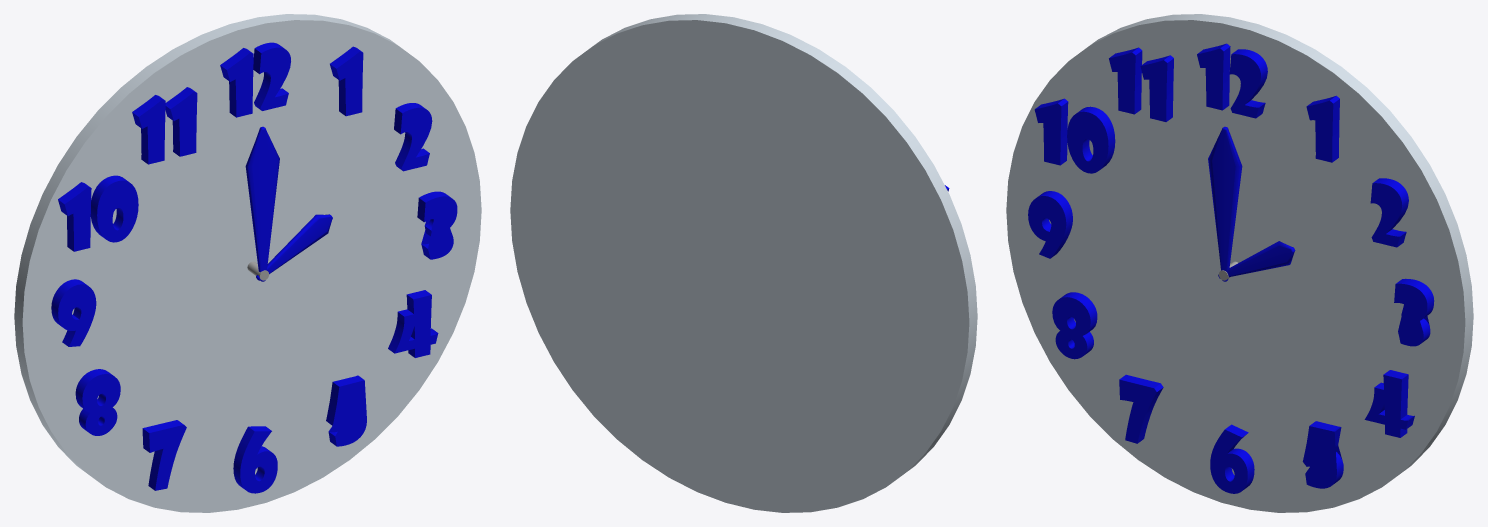
The model's file is Mode-5.fbx.
The picture shows the model from 3 angles, left to right: view 1: azimuth 30°, elevation 25°; view 2: azimuth 150°, elevation 25°; view 3: azimuth 330°, elevation 25°; orthographic projection.
Visible parts, largest first — view 1: Back1, NN10, NN12, NN11, pCube5, NN5, NN8, NN6, NN4, NN9, NN3, NN2 (+3 smaller); view 2: Back1; view 3: Back1, NN10, NN12, NN11, pCube5, NN8, NN5, NN6, NN9, NN4, NN3, NN2 (+3 smaller).
Boxes of the visible parts, x1,y1,x2,y2 form: Back1: (14,14,481,512); NN10: (58,175,138,251); NN12: (220,42,290,117); NN11: (132,87,197,164); pCube5: (245,126,279,281); NN5: (326,375,366,446); NN8: (75,369,120,435); NN6: (233,426,277,493); NN4: (388,290,438,357); NN9: (51,279,96,346); NN3: (417,191,457,259); NN2: (394,103,432,171); Back1: (510,14,977,512); Back1: (1006,14,1473,512); NN10: (1034,98,1115,173); NN12: (1197,43,1267,118); NN11: (1109,47,1173,121); pCube5: (1208,126,1242,281); NN8: (1052,292,1097,359); NN5: (1302,421,1343,488); NN6: (1210,424,1254,493); NN9: (1028,191,1072,258); NN4: (1364,370,1414,437); NN3: (1394,278,1434,346); NN2: (1370,178,1408,247).
Bounding box in the file's own units: 98.2 × 98 × 7.66.
